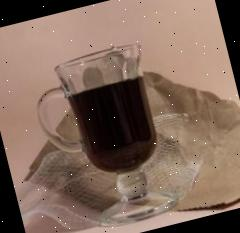glass: (22, 36, 185, 233)
